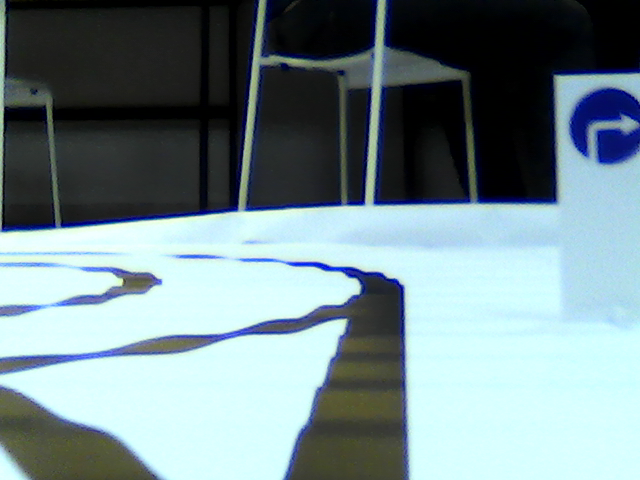Right: (565, 86, 638, 164)
